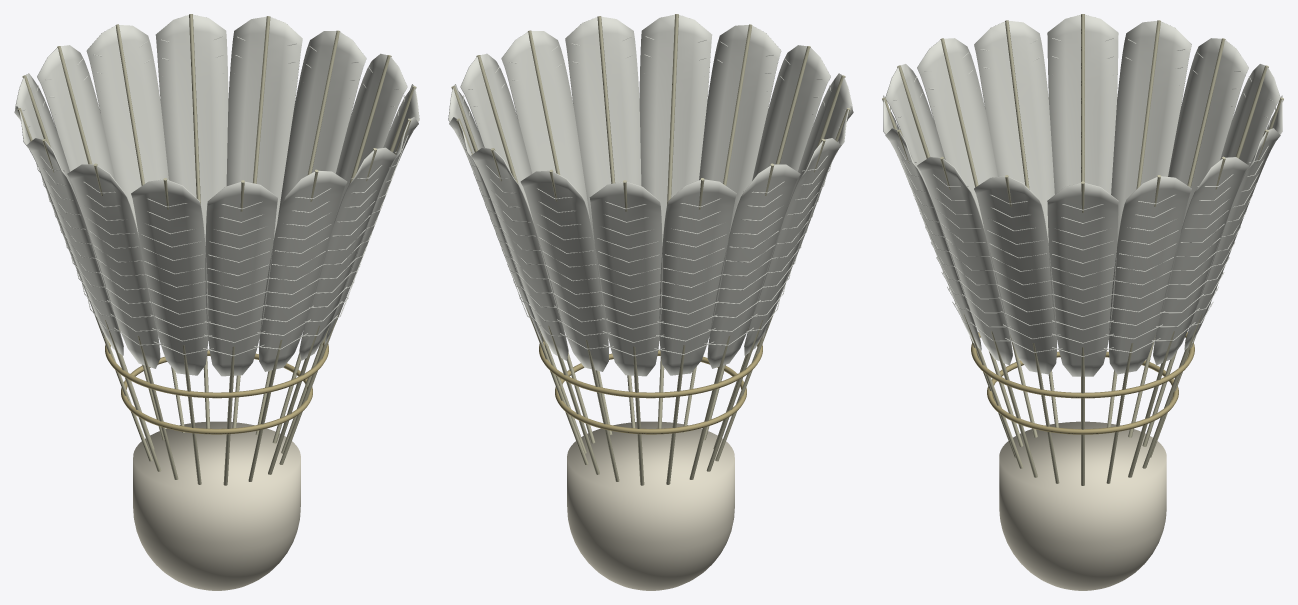
3 views of the same model, side by side, from view 1: azimuth 30°, elevation 25°; view 2: azimuth 150°, elevation 25°; view 3: azimuth 270°, elevation 25° (orthographic).
Parts seen in each view (by area): view 1: MESH_BadmintonShuttlecock; view 2: MESH_BadmintonShuttlecock; view 3: MESH_BadmintonShuttlecock.
Part boxes in pixels (<box>): MESH_BadmintonShuttlecock: <box>14,14,419,590</box>; MESH_BadmintonShuttlecock: <box>448,14,853,590</box>; MESH_BadmintonShuttlecock: <box>882,14,1283,590</box>.
Size of the model in its own units: 0.0635 by 0.0847 by 0.0635.
